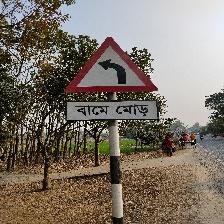Left-Turn: (63, 36, 160, 123)
